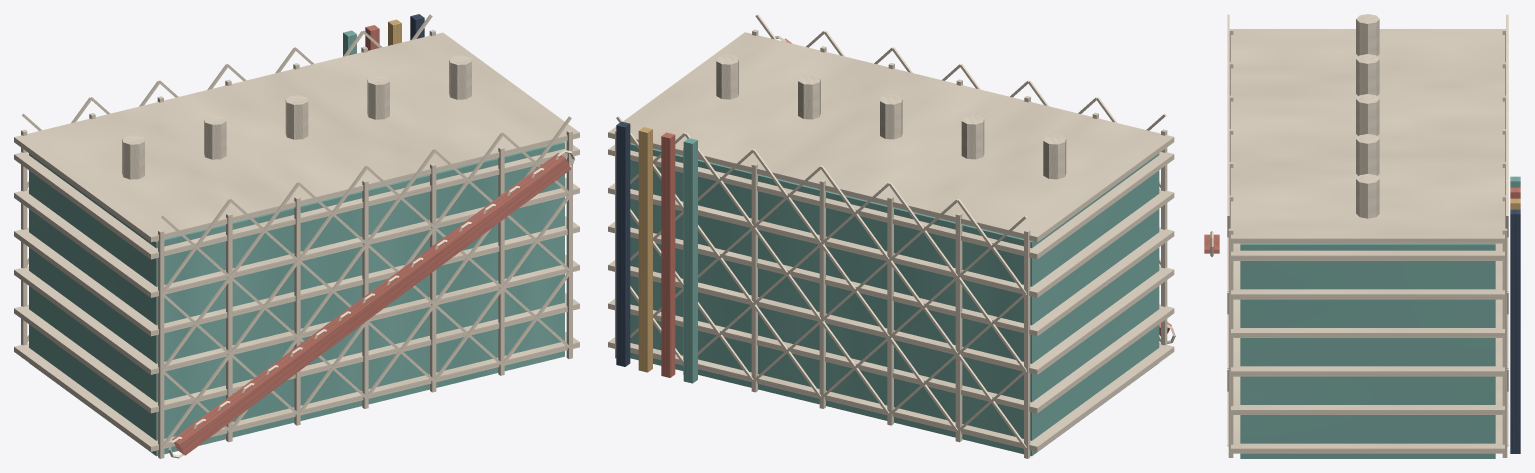
The model's file is centre-pompidou.glb.
3 views of the same model, side by side, from view 1: azimuth 30°, elevation 25°; view 2: azimuth 150°, elevation 25°; view 3: azimuth 270°, elevation 25° (orthographic).
Parts seen in each view (by area): view 1: centre-pompidou; view 2: centre-pompidou; view 3: centre-pompidou.
Boxes of the visible parts, bbox=[...] form: centre-pompidou: bbox=[14, 14, 579, 458]; centre-pompidou: bbox=[608, 14, 1175, 458]; centre-pompidou: bbox=[1204, 14, 1520, 458].
Size of the model in its own units: 10.5 by 6.08 by 6.69.
Materials: 1 (1 with a texture image).
